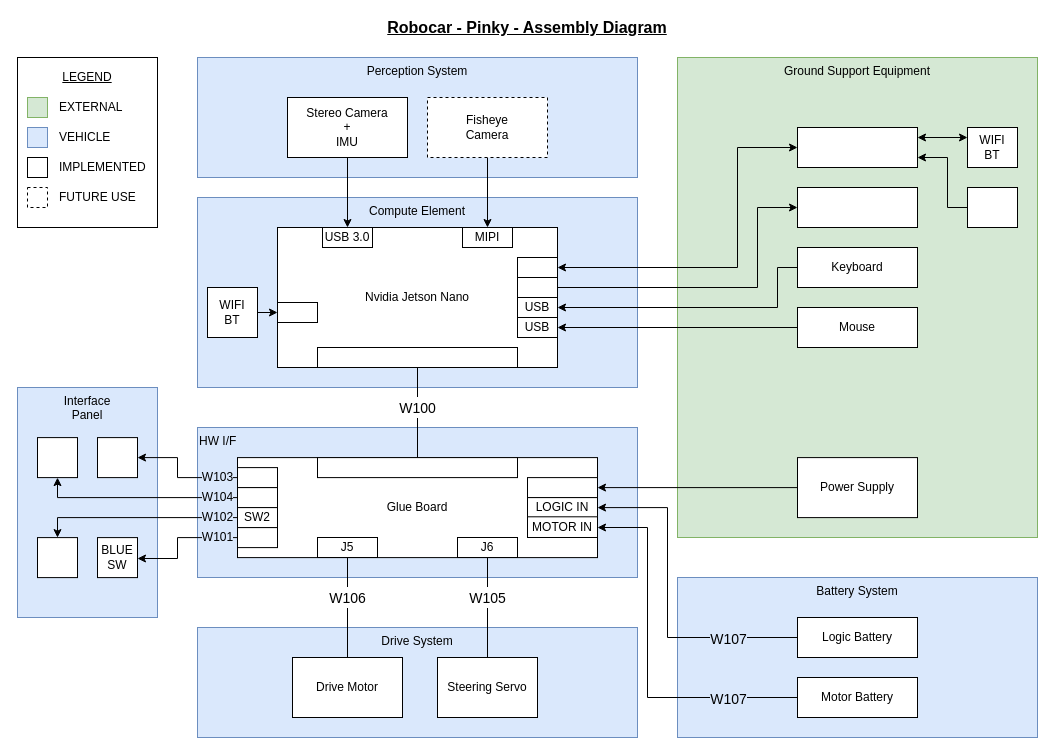
Image size: 1055x755. Some labels were removed from this diagram. Here are the shapes that lost their labels. From the top down, the centre of each, then its label:
(857,147): Operator Laptop
(857,207): Monitor
(992,207): E-Stop
(537,267): ETH
(537,287): HDMI
(297,312): M.2
(417,357): 40-Pin Header
(57,457): RED LED
(117,457): BLUE LED
(257,477): D2
(417,467): J4
(257,497): D3
(562,487): GSE IN
(57,557): RED SW
(257,537): SW1
